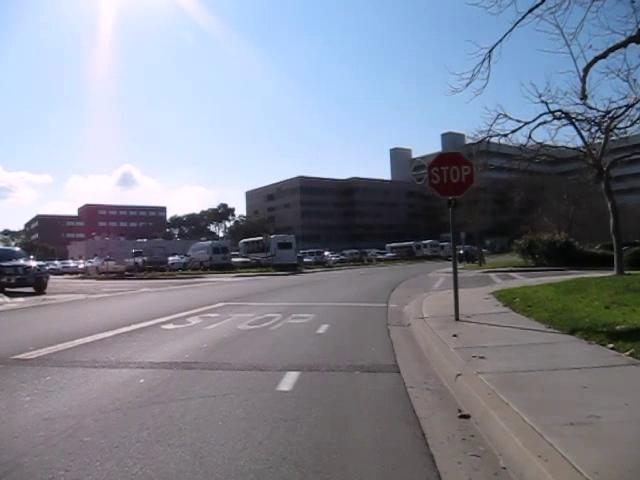stop: (426, 151, 476, 198)
